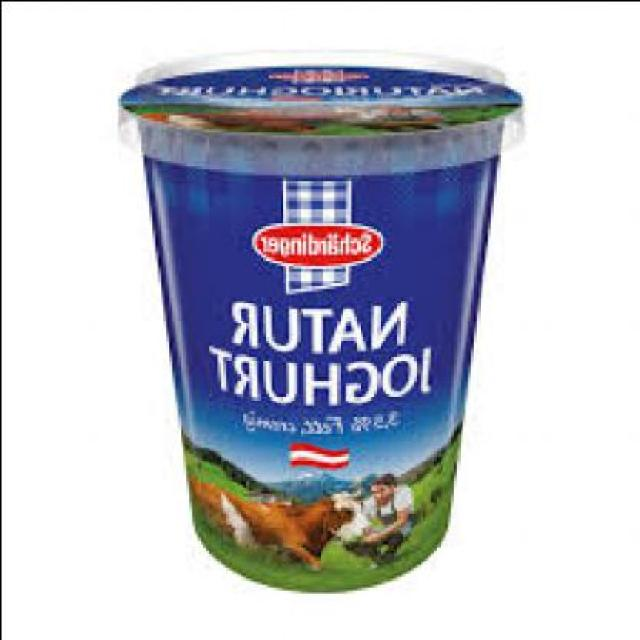PLASTIC: (122, 45, 528, 586)
